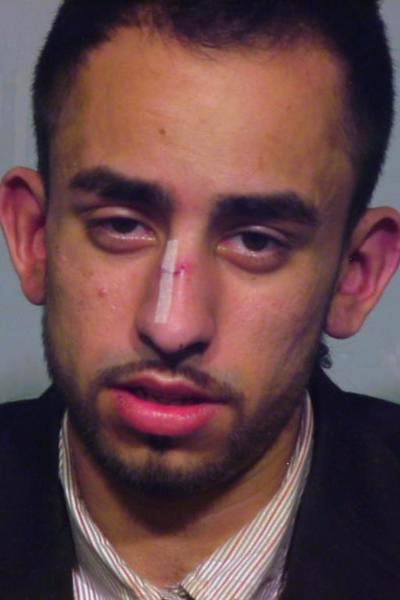Drunk: (60, 42, 325, 481)
